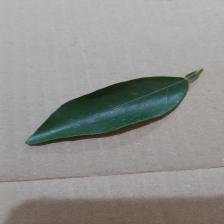healthy: (27, 72, 202, 148)
